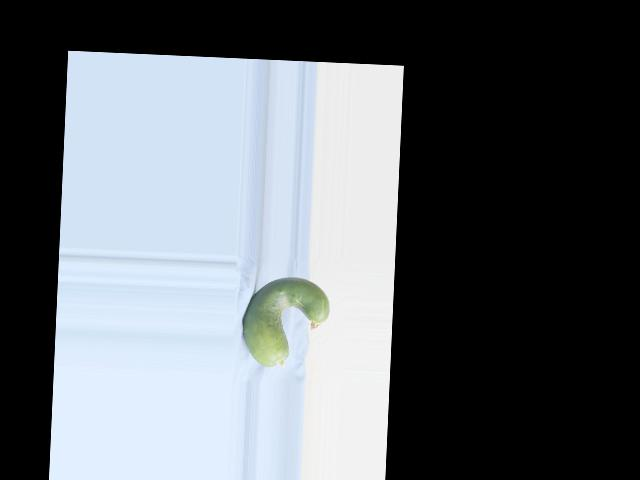cucumber: (241, 275, 330, 370)
